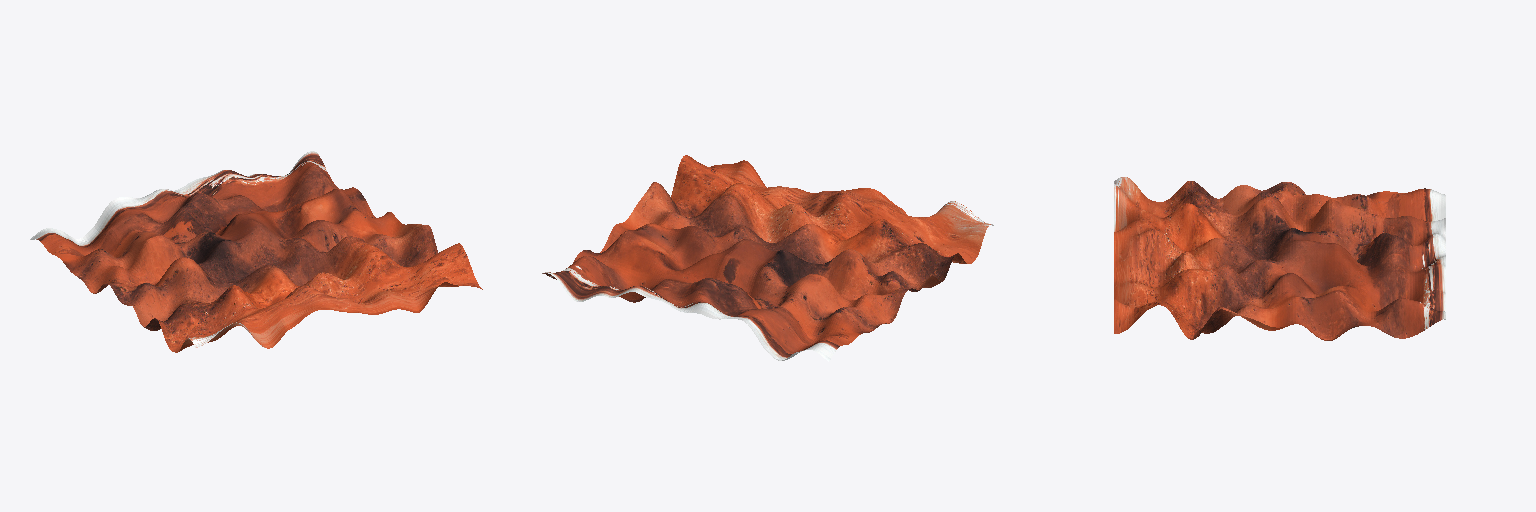
3 renders of one model, left to right at view 1: azimuth 30°, elevation 25°; view 2: azimuth 150°, elevation 25°; view 3: azimuth 270°, elevation 25°, orthographic.
Visible parts, largest first — view 1: Plane; view 2: Plane; view 3: Plane.
Part boxes in pixels (x1,y1,x2,y2): Plane: (30, 151, 482, 352); Plane: (542, 155, 993, 361); Plane: (1114, 177, 1445, 340).
Size of the model in its own units: 20.16 by 3 by 20.16.
1 materials, 1 textured.